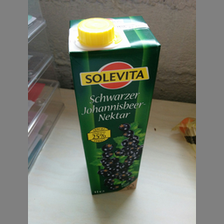juice: (68, 15, 162, 196)
